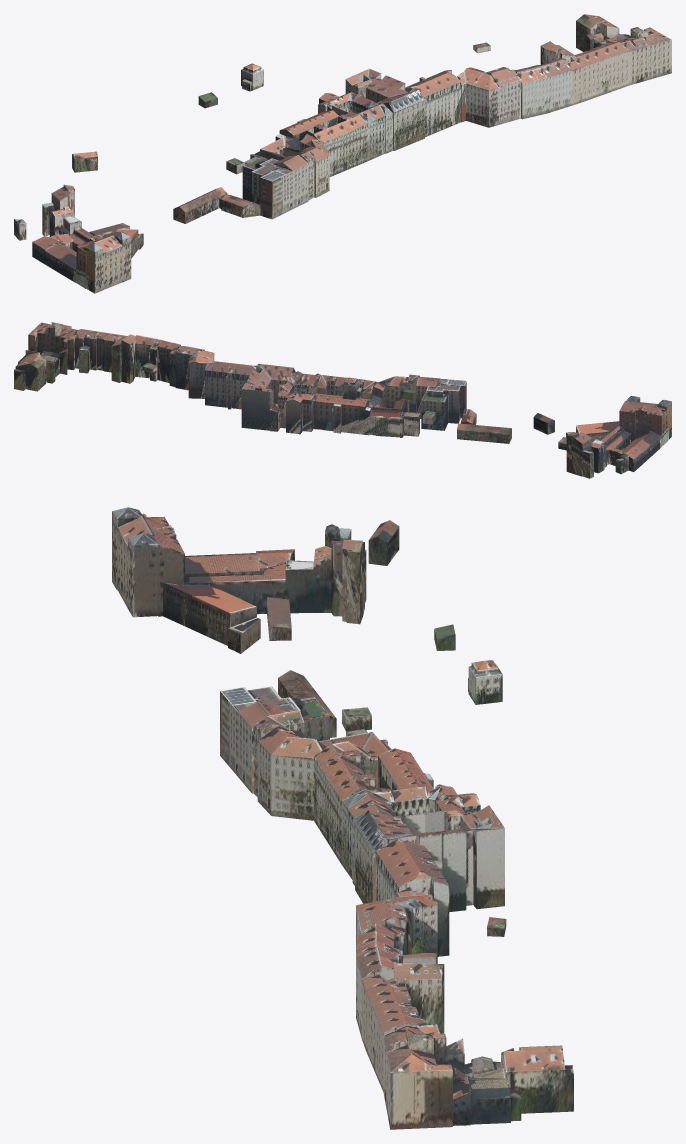
Rendered from LYON_1ER_00041.dae.
3 views of the same model, one above another, from view 1: azimuth 30°, elevation 25°; view 2: azimuth 150°, elevation 25°; view 3: azimuth 270°, elevation 25° (orthographic). The views are drawn at different scales.
Bounding box in the file's own units: 442 × 155 × 53.07.
Materials: 2 (2 with a texture image).
